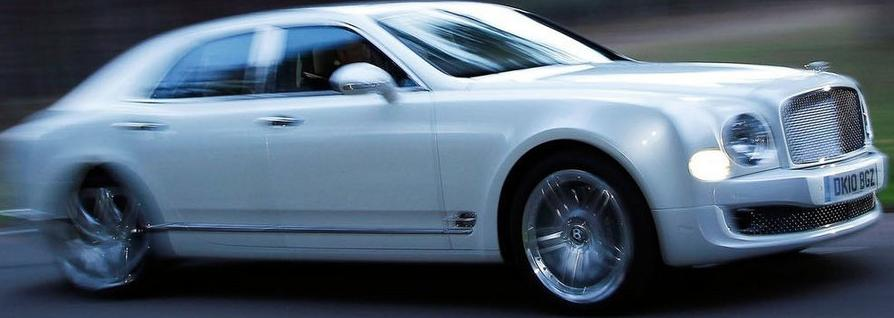front_view: (671, 69, 892, 258)
headlight: (714, 106, 775, 172)
side_glass: (139, 18, 433, 107)
